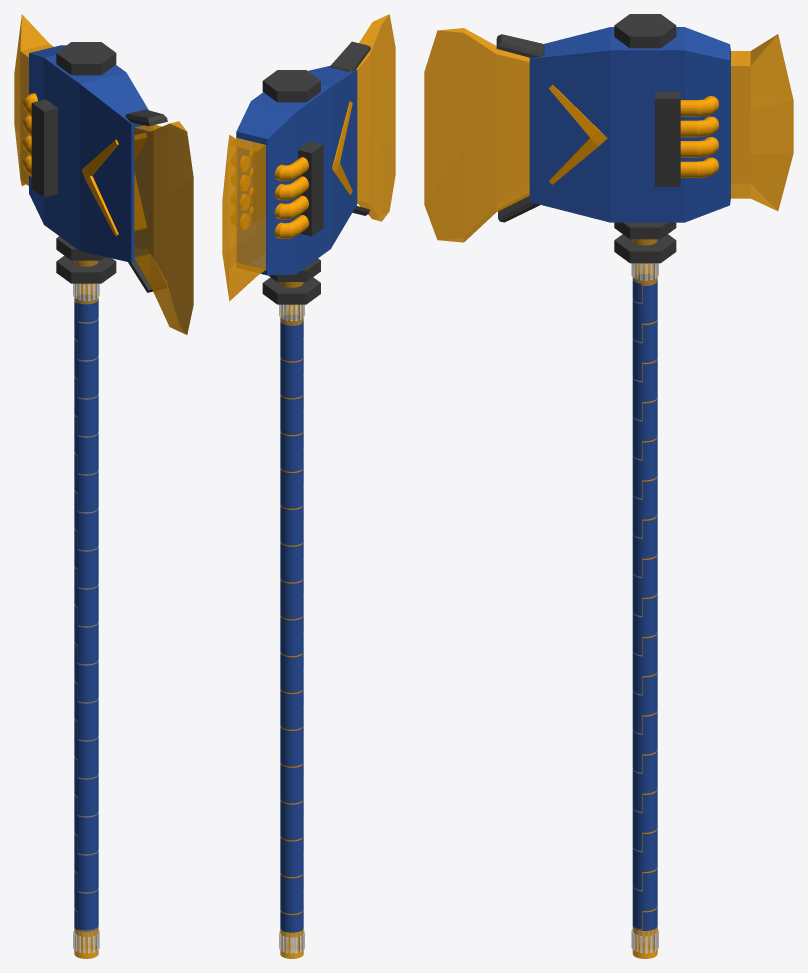
Rendered from StarlightAxe.fbx.
The picture shows the model from 3 angles, left to right: view 1: azimuth 30°, elevation 25°; view 2: azimuth 150°, elevation 25°; view 3: azimuth 270°, elevation 25°; orthographic projection. The views are drawn at different scales.
Parts seen in each view (by area): view 1: StarlightAxe, StarlightAxeL; view 2: StarlightAxe, StarlightAxeL; view 3: StarlightAxe, StarlightAxeL.
Part boxes in pixels (<box>): StarlightAxe: <box>22,42,167,931</box>; StarlightAxeL: <box>14,14,193,958</box>; StarlightAxe: <box>236,41,370,932</box>; StarlightAxeL: <box>222,14,395,958</box>; StarlightAxe: <box>496,14,730,930</box>; StarlightAxeL: <box>424,28,793,958</box>.
Size of the model in its own units: 30.35 by 351 by 126.
2 materials, 2 textured.
